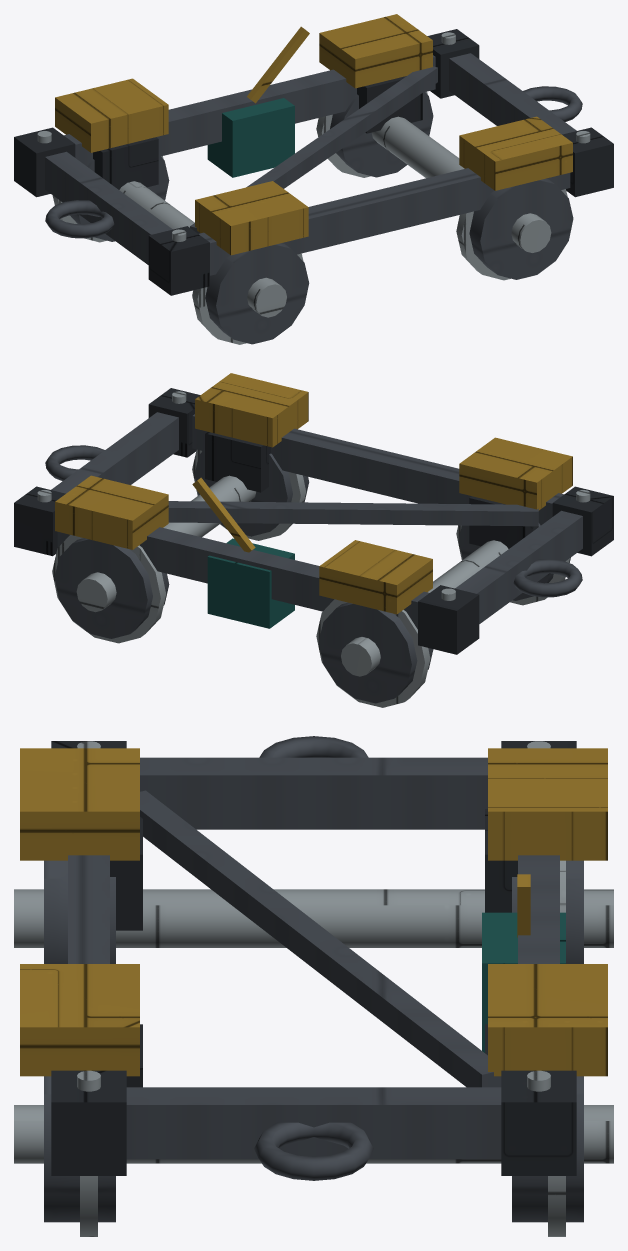
File: cargo-rail-cargo-dolly_lod1.glb
3 views of the same model, one above another, from view 1: azimuth 30°, elevation 25°; view 2: azimuth 150°, elevation 25°; view 3: azimuth 270°, elevation 25° (orthographic). The views are drawn at different scales.
Visible parts, largest first — view 1: LOD1_Mechanical, LOD1_Livery, LOD1_Armor, LOD1_BrushedMetal, LOD1_Hull; view 2: LOD1_Mechanical, LOD1_Livery, LOD1_Armor, LOD1_BrushedMetal, LOD1_Hull; view 3: LOD1_Mechanical, LOD1_Livery, LOD1_BrushedMetal, LOD1_Armor, LOD1_Hull.
Part boxes in pixels (bbox=[...]): LOD1_Mechanical: bbox=[45, 53, 582, 344]; LOD1_Livery: bbox=[55, 14, 572, 255]; LOD1_Armor: bbox=[14, 29, 613, 295]; LOD1_BrushedMetal: bbox=[37, 32, 590, 344]; LOD1_Hull: bbox=[207, 98, 294, 177]; LOD1_Mechanical: bbox=[45, 412, 582, 703]; LOD1_Livery: bbox=[55, 373, 572, 614]; LOD1_Armor: bbox=[14, 388, 613, 654]; LOD1_BrushedMetal: bbox=[37, 391, 590, 707]; LOD1_Hull: bbox=[207, 538, 294, 628]; LOD1_Mechanical: bbox=[44, 736, 583, 1222]; LOD1_Livery: bbox=[20, 748, 607, 1076]; LOD1_BrushedMetal: bbox=[14, 741, 613, 1236]; LOD1_Armor: bbox=[51, 741, 576, 1175]; LOD1_Hull: bbox=[482, 912, 565, 1052].
Bounding box in the file's own units: 3.4 × 1.06 × 2.
Materials: 5 (5 with a texture image).
